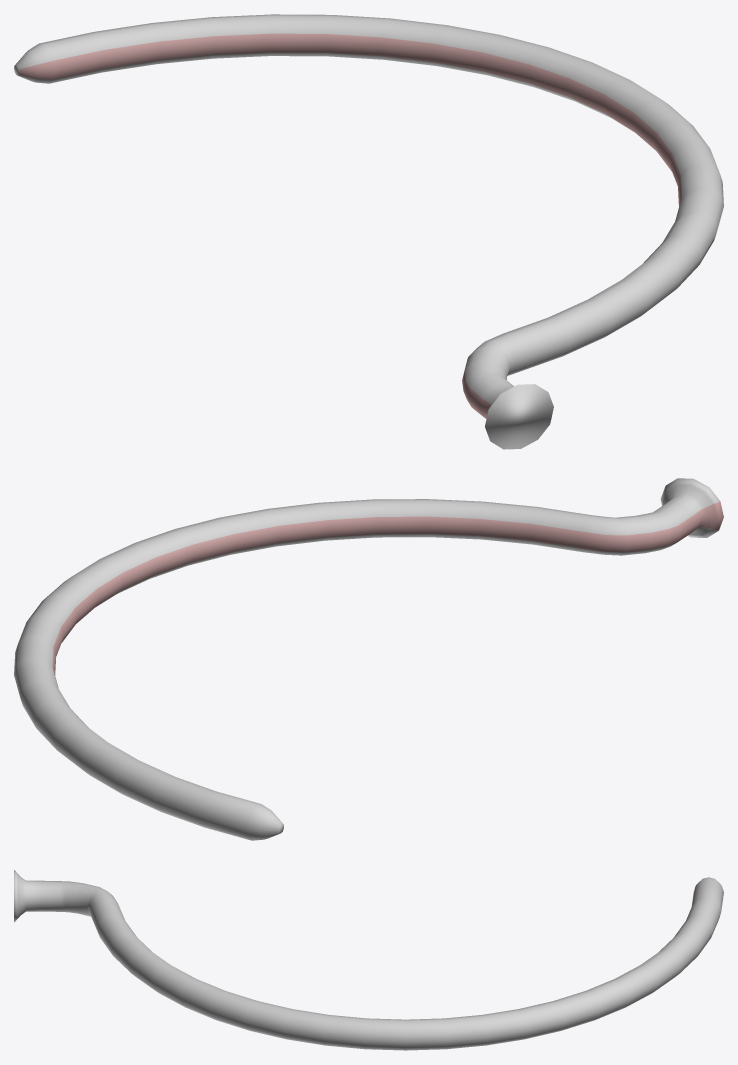
The model's file is ControllerTwist.fbx.
The picture shows the model from 3 angles, top to bottom: view 1: azimuth 30°, elevation 25°; view 2: azimuth 150°, elevation 25°; view 3: azimuth 270°, elevation 25°; orthographic projection. The views are drawn at different scales.
Parts seen in each view (by area): view 1: Torus; view 2: Torus; view 3: Torus.
Part boxes in pixels (<box>): Torus: <box>14,14,723,449</box>; Torus: <box>14,478,723,840</box>; Torus: <box>14,870,723,1050</box>.
Bounding box in the file's own units: 4.3 × 0.5876 × 7.96.
